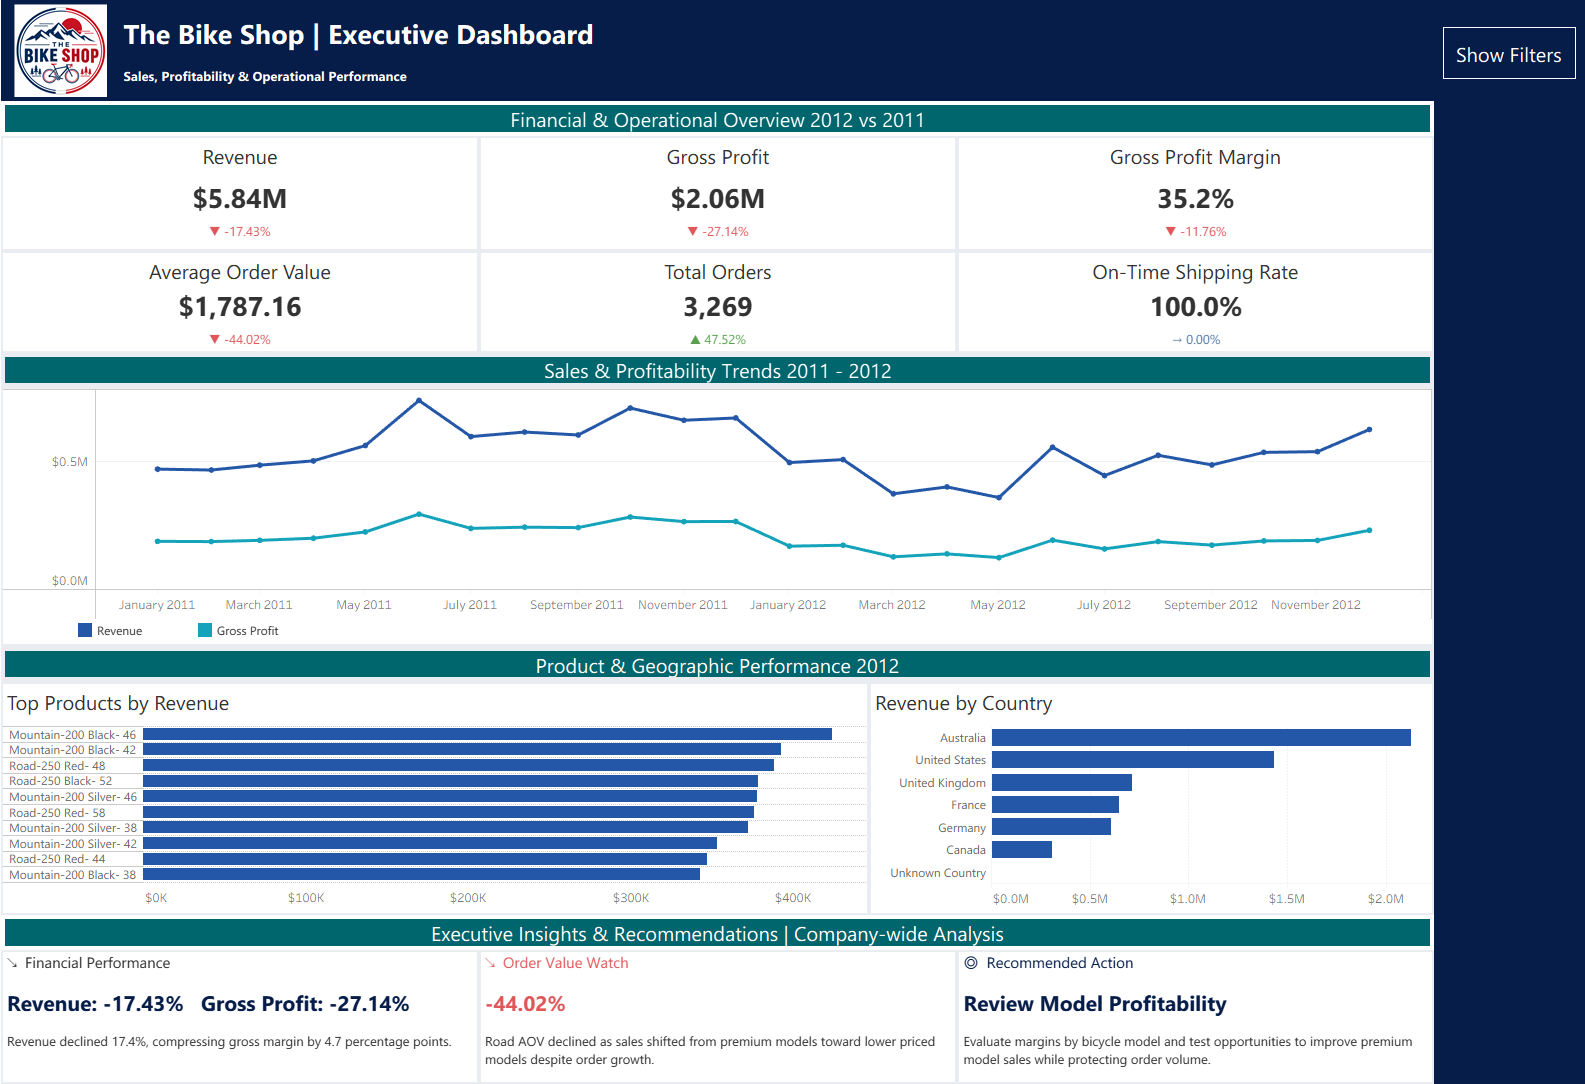

Layout of this report page (visuals, bound fields, positions):
{"tool":"tableau","page":{"name":"Executive Dashboard","canvas":[1600,1100],"ordinal":0},"visuals":[{"type":"image","param":"Image/a_clean_flat_vector_style_logo_design_on_a_white.png","box":[8,8,120,101]},{"type":"text","box":[128,8,1312.9,101]},{"type":"blank","box":[1440.9,8,151.1,1084]},{"type":"dashboard-object","box":[1450,35,133,52]},{"type":"parameter","param":"[Parameters].[Parameter 1607269344743424]","box":[1445,102,143,57]},{"type":"worksheet","title":"Fin & Op Dynamic Header","mark":"Automatic","box":[8,109,1432.9,35]},{"type":"worksheet","title":"Revenue KPI","mark":"Text","rows":["Calculation_1212818910851072","Calculation_1212818910851072"],"box":[8,144,478,115]},{"type":"worksheet","title":"Gross Profit KPI","mark":"Text","rows":["Calculation_1212818910851072","Calculation_1212818910851072"],"box":[486,144,478,115]},{"type":"worksheet","title":"Gross Margin KPI","mark":"Text","rows":["Calculation_1212818910851072","Calculation_1212818910851072"],"box":[964,144,477,115]},{"type":"filter","title":"Revenue KPI","param":"[federated.185ht981dlt0q01ef34t71ksnz8l].[none:country:nk]","box":[1445,159,143,57]},{"type":"filter","title":"Revenue KPI","param":"[federated.185ht981dlt0q01ef34t71ksnz8l].[none:Calculation_0739201814458396:nk]","box":[1445,216,143,57]},{"type":"worksheet","title":"Avg Order Value","mark":"Text","rows":["Calculation_1212818910851072","Calculation_1212818910851072"],"box":[8,259,478,102]},{"type":"worksheet","title":"Total Orders","mark":"Text","rows":["Calculation_1212818910851072","Calculation_1212818910851072"],"box":[486,259,478,102]},{"type":"worksheet","title":"Current Year On-Time Shipping Rate","mark":"Text","rows":["Calculation_1212818910851072","Calculation_1212818910851072"],"box":[964,259,477,102]},{"type":"filter","title":"Revenue KPI","param":"[federated.185ht981dlt0q01ef34t71ksnz8l].[none:product_line:nk]","box":[1445,273,143,55]},{"type":"worksheet","title":"Sales & Profit Dynamic Header","mark":"Automatic","box":[8,361,1432.9,34]},{"type":"worksheet","title":"Revenue & Gross Profit Trend","mark":"Automatic","rows":["Calculation_1212818923495425","Calculation_0739202497085494"],"cols":["order_date"],"box":[8,395,1432.9,233.5]},{"type":"legend","title":"Revenue & Gross Profit Trend","param":"[federated.185ht981dlt0q01ef34t71ksnz8l].[:Measure Names]","box":[8,628.5,1432.9,26]},{"type":"text","box":[8,654.5,1432.9,35]},{"type":"worksheet","title":"Top Products by Revenue","mark":"Bar","rows":["product_key","product_name"],"cols":["Calculation_0739201766101001"],"box":[8,689.5,868,233.5]},{"type":"worksheet","title":"Revenue by Country","mark":"Automatic","rows":["country"],"cols":["Calculation_0739201766101001"],"box":[876,689.5,564.9,233.5]},{"type":"text","box":[8,923,1432.9,35]},{"type":"worksheet","title":"Exec Insight Fin","mark":"Automatic","box":[8,958,478,134]},{"type":"worksheet","title":"Exec Insight Ord Val","mark":"Text","box":[486,958,478,134]},{"type":"worksheet","title":"Exec Insight Rec","mark":"Text","box":[964,958,477,134]}]}

Visuals, with their boxes in screenshot pixels (x1, y1, x2, y2), scaled from the page's 1600x1100 canvas onto the 1585x1084 screenshot:
image: {"x1": 8, "y1": 8, "x2": 127, "y2": 107}
text: {"x1": 127, "y1": 8, "x2": 1427, "y2": 107}
blank: {"x1": 1427, "y1": 8, "x2": 1577, "y2": 1076}
dashboard-object: {"x1": 1436, "y1": 34, "x2": 1568, "y2": 86}
parameter: {"x1": 1431, "y1": 101, "x2": 1573, "y2": 157}
"Fin & Op Dynamic Header" worksheet: {"x1": 8, "y1": 107, "x2": 1427, "y2": 142}
"Revenue KPI" worksheet (Text marks): {"x1": 8, "y1": 142, "x2": 481, "y2": 255}
"Gross Profit KPI" worksheet (Text marks): {"x1": 481, "y1": 142, "x2": 955, "y2": 255}
"Gross Margin KPI" worksheet (Text marks): {"x1": 955, "y1": 142, "x2": 1427, "y2": 255}
"Revenue KPI" filter: {"x1": 1431, "y1": 157, "x2": 1573, "y2": 213}
"Revenue KPI" filter: {"x1": 1431, "y1": 213, "x2": 1573, "y2": 269}
"Avg Order Value" worksheet (Text marks): {"x1": 8, "y1": 255, "x2": 481, "y2": 356}
"Total Orders" worksheet (Text marks): {"x1": 481, "y1": 255, "x2": 955, "y2": 356}
"Current Year On-Time Shipping Rate" worksheet (Text marks): {"x1": 955, "y1": 255, "x2": 1427, "y2": 356}
"Revenue KPI" filter: {"x1": 1431, "y1": 269, "x2": 1573, "y2": 323}
"Sales & Profit Dynamic Header" worksheet: {"x1": 8, "y1": 356, "x2": 1427, "y2": 389}
"Revenue & Gross Profit Trend" worksheet: {"x1": 8, "y1": 389, "x2": 1427, "y2": 619}
"Revenue & Gross Profit Trend" legend: {"x1": 8, "y1": 619, "x2": 1427, "y2": 645}
text: {"x1": 8, "y1": 645, "x2": 1427, "y2": 679}
"Top Products by Revenue" worksheet (Bar marks): {"x1": 8, "y1": 679, "x2": 868, "y2": 910}
"Revenue by Country" worksheet: {"x1": 868, "y1": 679, "x2": 1427, "y2": 910}
text: {"x1": 8, "y1": 910, "x2": 1427, "y2": 944}
"Exec Insight Fin" worksheet: {"x1": 8, "y1": 944, "x2": 481, "y2": 1076}
"Exec Insight Ord Val" worksheet (Text marks): {"x1": 481, "y1": 944, "x2": 955, "y2": 1076}
"Exec Insight Rec" worksheet (Text marks): {"x1": 955, "y1": 944, "x2": 1427, "y2": 1076}
